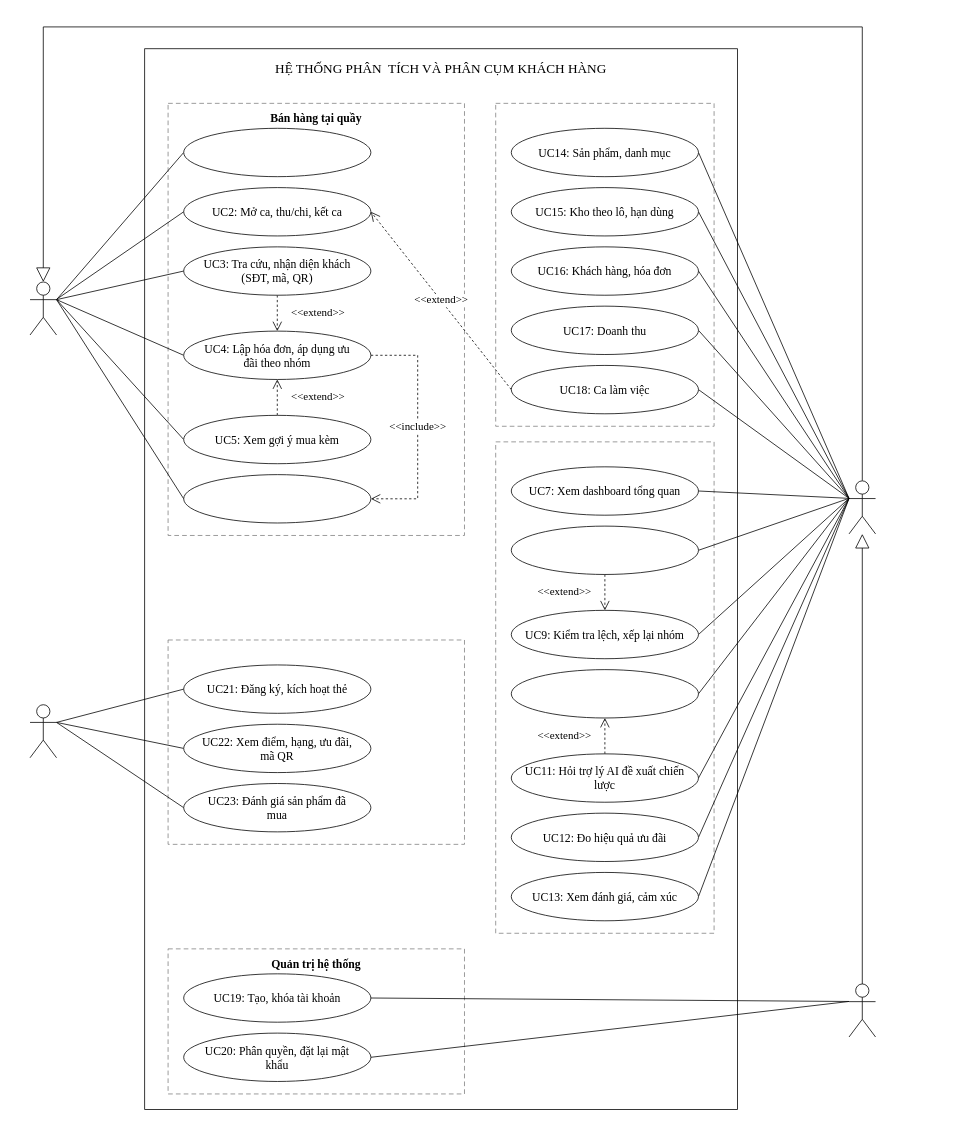
Some shapes in this 959 by 1123 pixel diagram are drawn without their labels. The shapes that lost their labels are listed below. From the top down, each one's box as (x1, y1, x2, y2) in pixels, then its label:
(183, 128, 371, 177): UC1: Đăng nhập, đăng xuất
(495, 103, 714, 426): Quản lý cửa hàng
(29, 281, 57, 335): Thu ngân (CASHIER)
(183, 474, 371, 523): UC6: Đổi điểm, thanh toán, in hóa đơn
(848, 480, 876, 534): Quản lý (MANAGER)
(511, 525, 698, 574): UC8: Chọn số cụm K, huấn luyện, áp dụng mô hình
(495, 441, 714, 933): Phân tích khách hàng & AI
(511, 669, 698, 718): UC10: Quản lý chiến lược ưu đãi
(29, 704, 57, 758): Khách hàng (CUSTOMER)
(167, 639, 464, 844): Thẻ thành viên
(848, 983, 876, 1037): Quản trị viên (ADMIN)
